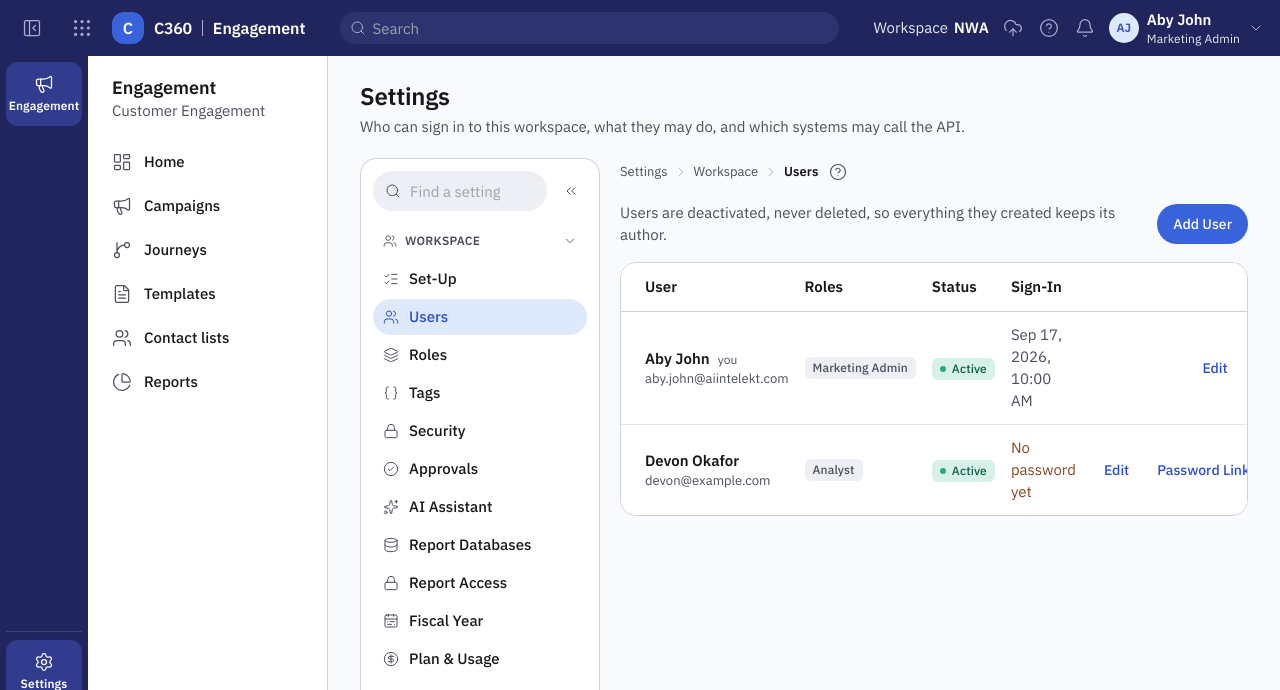
Test case: a password link can be emailed by the platform instead of being copied by hand
This screenshot has width=1280, height=690.
Click the button "Password Link" in the row of "Devon Okafor": {"x": 1203, "y": 470} [1145,454,1262,486]
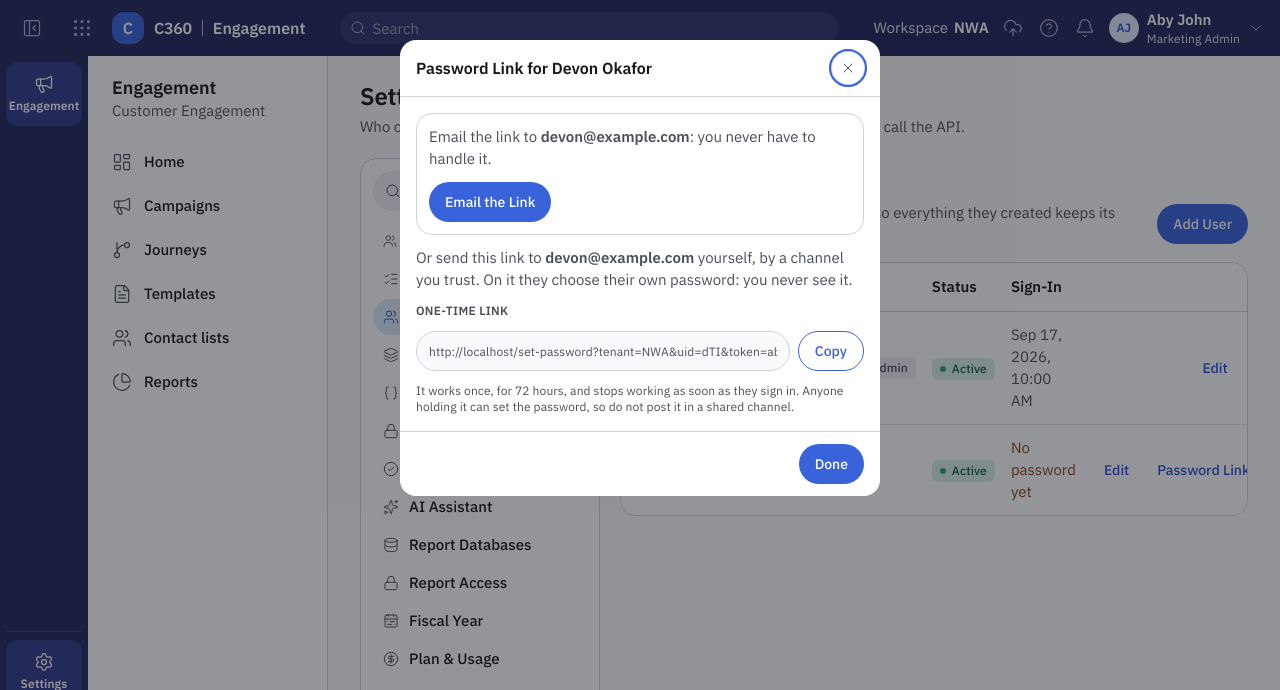
Click the button "Email the Link": {"x": 490, "y": 202} [429,182,551,222]
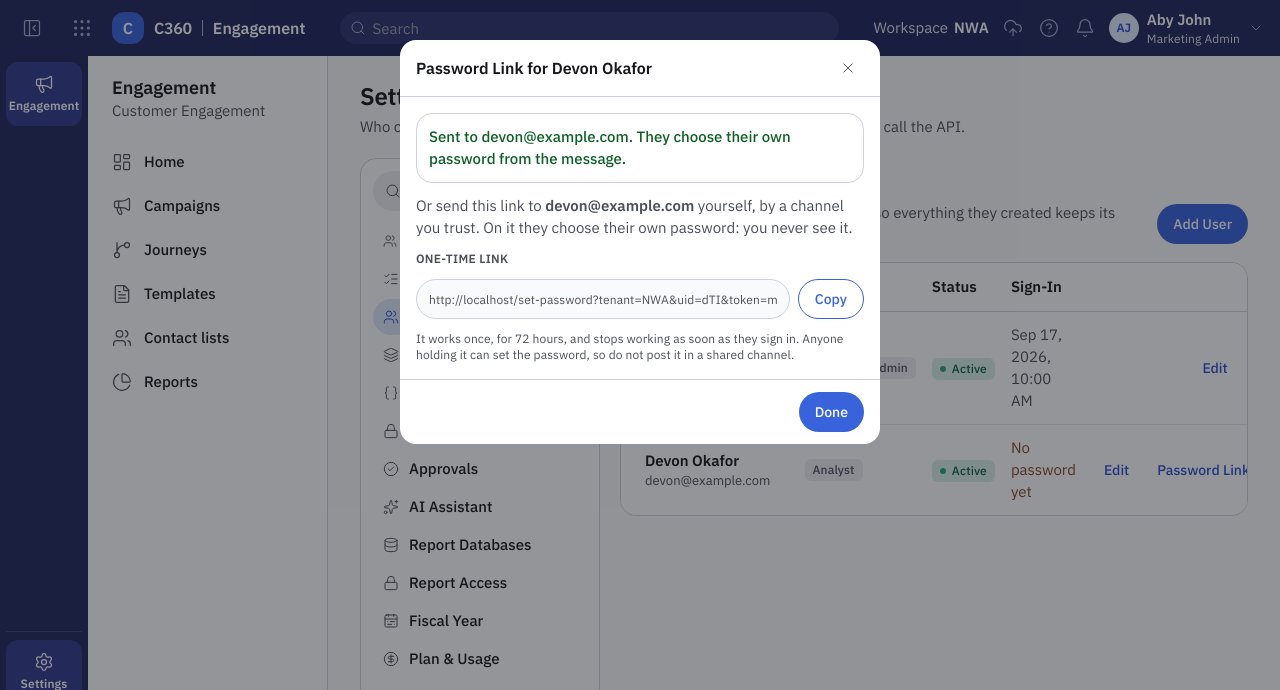
Now the message shows "Sent to devon@example.com", box [429,126,851,170]
